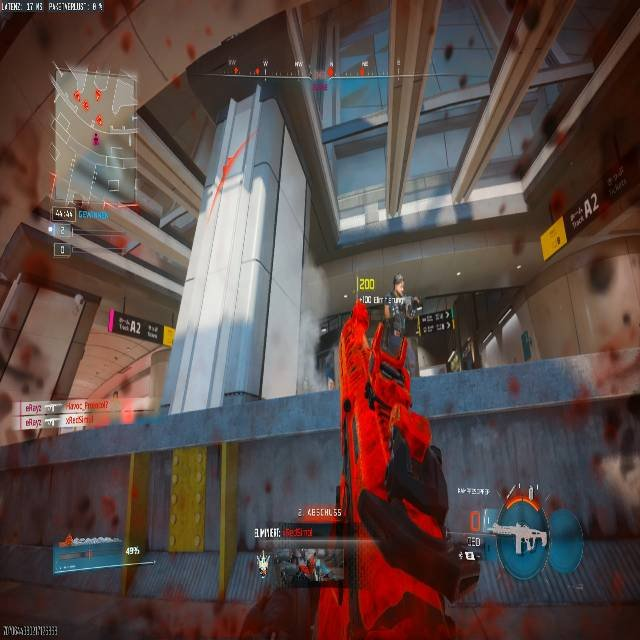head: (392, 273, 405, 295)
player: (385, 273, 422, 375)
